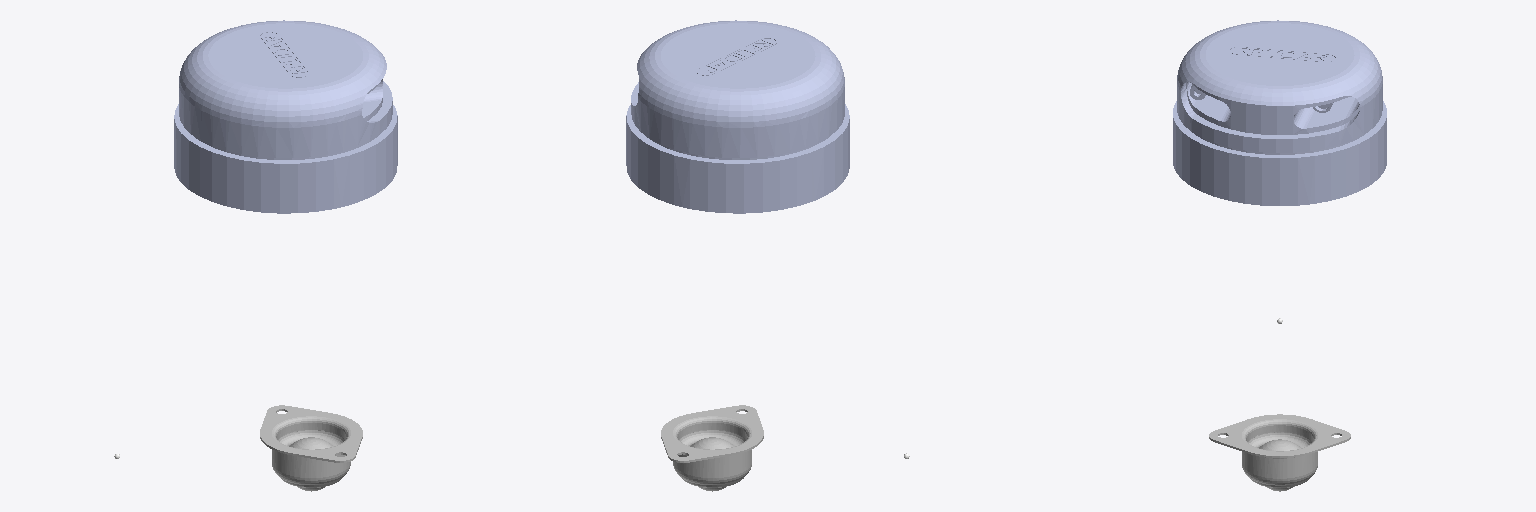
URDF robot description (robot_base):
<?xml version="1.0" encoding="utf-8"?>
<robot name="robot_base">
  <link name="dummy_link">
    <visual>
      <origin xyz="0 0 0" rpy="0 0 0" />
      <geometry>
        <sphere radius="0.001"/>
        <!-- Small dummy geometry -->
      </geometry>
      <material name="">
        <color rgba="1 1 1 0" />
        <!-- Transparent -->
      </material>
    </visual>
  </link>
  <!-- Connect dummy_link to base_link -->
  <joint name="base_to_dummy" type="fixed">
    <origin xyz="0 0 0" rpy="0 0 0" />
    <parent link="dummy_link" />
    <child link="base_link" />
  </joint>
  <link name="base_link">
    <inertial>
      <origin xyz="-0.0159332 0.00037847 0.0230631" rpy="0 0 0" />
      <mass value="0.292247405722798" />
      <inertia
        ixx="0.000429963078507304" ixy="4.62099453471662E-06"
        ixz="1.58774627973234E-12" iyy="0.00080367575600521"
        iyz="-3.33005853023011E-13" izz="0.00121846146781167" />
    </inertial>
    <visual>
      <origin xyz="0 0 0" rpy="0 0 0" />
      <geometry>
        <mesh filename="package://mobile_manipulator_body/meshes/base_link.STL" />
      </geometry>
      <material name="">
        <color rgba="1 1 1 1" />
      </material>
    </visual>
    <collision>
      <origin xyz="0 0 0" rpy="0 0 0" />
      <geometry>
        <mesh filename="package://mobile_manipulator_body/meshes/base_link.STL" />
      </geometry>
    </collision>
  </link>
  <link
    name="Wheel_Left">
    <inertial>
      <origin
        xyz="-4.9865970597196E-07 -5.89849896204253E-07 -0.00606538909070078"
        rpy="0 0 0" />
      <mass
        value="0.095010558221634" />
      <inertia
        ixx="5.98197604162753E-05"
        ixy="-2.19638833914417E-10"
        ixz="2.6590553874291E-12"
        iyy="5.98250644048601E-05"
        iyz="-6.89645347104026E-11"
        izz="0.000107921224901709" />
    </inertial>
    <visual>
      <origin
        xyz="0 0 0"
        rpy="0 0 0" />
      <geometry>
        <mesh
          filename="package://mobile_manipulator_body/meshes/Wheel_Left.STL" />
      </geometry>
      <material
        name="">
        <color
          rgba="0.792156862745098 0.819607843137255 0.933333333333333 1" />
      </material>
    </visual>
    <collision>
      <origin
        xyz="0 0 0"
        rpy="0 0 0" />
      <geometry>
        <mesh
          filename="package://mobile_manipulator_body/meshes/Wheel_Left.STL" />
      </geometry>
    </collision>
  </link>
  <joint name="Wheel_Left_joint" type="continuous">
    <origin xyz="-0.0691182674073111 0.0986067938627333 0.0147500406739957"
      rpy="-1.57079632679489 0 0" />
    <parent link="base_link" />
    <child link="Wheel_Left" />
    <axis xyz="-0.000221070416805364 0 0.999999975563903" />
  </joint>
  <link
    name="Wheel_Right">
    <inertial>
      <origin
        xyz="-7.5125333422188E-07 -1.43630067065553E-07 0.00606538909071514"
        rpy="0 0 0" />
      <mass
        value="0.0950105582252051" />
      <inertia
        ixx="5.98235592551786E-05"
        ixy="-2.40126304111027E-09"
        ixz="5.84800461053403E-11"
        iyy="5.98212655663013E-05"
        iyz="-3.66504977655556E-11"
        izz="0.000107921224902043" />
    </inertial>
    <visual>
      <origin
        xyz="0 0 0"
        rpy="0 0 0" />
      <geometry>
        <mesh
          filename="package://mobile_manipulator_body/meshes/Wheel_Right.STL" />
      </geometry>
      <material
        name="">
        <color
          rgba="0.792156862745098 0.819607843137255 0.933333333333333 1" />
      </material>
    </visual>
    <collision>
      <origin
        xyz="0 0 0" rpy="0 0 0" />
      <geometry>
        <mesh
          filename="package://mobile_manipulator_body/meshes/Wheel_Right.STL" />
      </geometry>
    </collision>
  </link>
  <joint
    name="Wheel_Right_joint"
    type="continuous">
    <origin
      xyz="-0.0690746739058167 -0.098585939150258 0.0147500004436891"
      rpy="-1.57079632679489 0 0" />
    <parent
      link="base_link" />
    <child
      link="Wheel_Right" />
    <axis
      xyz="-0.000221070416805647 0 0.999999975563903" />
  </joint>
  <link
    name="CASTER">
    <inertial>
      <origin
        xyz="1.88150478530602E-09 1.4854297777922E-08 0.010130285754726"
        rpy="0 0 0" />
      <mass
        value="0.0118320440750591" />
      <inertia
        ixx="7.75664356920457E-07"
        ixy="1.72527856620683E-12"
        ixz="-1.28248756008223E-13"
        iyy="7.25304291699545E-07"
        iyz="-6.26130230081244E-13"
        izz="9.21150248298891E-07" />
    </inertial>
    <visual>
      <origin
        xyz="0 0 0"
        rpy="0 0 0" />
      <geometry>
        <mesh
          filename="package://mobile_manipulator_body/meshes/CASTER.STL" />
      </geometry>
      <material
        name="">
        <color
          rgba="0.796078431372549 0.796078431372549 0.796078431372549 1" />
      </material>
    </visual>
    <collision>
      <origin
        xyz="0 0 0"
        rpy="0 0 0" />
      <geometry>
        <mesh
          filename="package://mobile_manipulator_body/meshes/CASTER.STL" />
      </geometry>
    </collision>
  </link>
  <joint
    name="CASTER_joint"
    type="fixed">
    <origin
      xyz="0.0759035293244633 1.04273562376855E-05 -0.0299999999999997"
      rpy="0 0 0" />
    <parent
      link="base_link" />
    <child
      link="CASTER" />
    <axis
      xyz="0 0 0" />
  </joint>
  <link
    name="Lidar">
    <inertial>
      <origin
        xyz="-0.000952743015547569 0.000174931117582391 -0.0222148342073064"
        rpy="0 0 0" />
      <mass
        value="0.163065240500782" />
      <inertia
        ixx="6.07653762014296E-05"
        ixy="-2.85075017809212E-08"
        ixz="-2.36607526592323E-07"
        iyy="6.03982532986614E-05"
        iyz="4.61829628674481E-08"
        izz="0.000107588752845482" />
    </inertial>
    <visual>
      <origin
        xyz="0 0 0"
        rpy="0 0 0" />
      <geometry>
        <mesh
          filename="package://mobile_manipulator_body/meshes/Lidar.STL" />
      </geometry>
      <material
        name="">
        <color
          rgba="0.792156862745098 0.819607843137255 0.933333333333333 1" />
      </material>
    </visual>
    <collision>
      <origin
        xyz="0 0 0"
        rpy="0 0 0" />
      <geometry>
        <mesh
          filename="package://mobile_manipulator_body/meshes/Lidar.STL" />
      </geometry>
    </collision>
  </link>
  <joint
    name="Lidar_joint"
    type="fixed">
    <origin
      xyz="0.0659038792794608 1.07773112351106E-05 0.134299800000001"
      rpy="0 0 0" />
    <parent
      link="base_link" />
    <child
      link="Lidar" />
    <axis
      xyz="0 0 0" />
  </joint>
  <gazebo>
    <plugin name="gazebo_ros_control" filename="libgazebo_ros_control.so">
      <robotNamespace>/</robotNamespace>
      <controlPeriod>0.001</controlPeriod>
      <legacyModeNS>false</legacyModeNS>
    </plugin>
  </gazebo>
  <gazebo>
    <plugin name="diff_drive_controller" filename="libgazebo_ros_diff_drive.so">
      <robotNamespace>/</robotNamespace>
      <legacyMode>false</legacyMode>
      <alwaysOn>true</alwaysOn>
      <commandTopic>cmd_vel</commandTopic>
      <odometryTopic>odom</odometryTopic>
      <odometryFrame>map</odometryFrame>
      <robotBaseFrame>base_link</robotBaseFrame>
      <wheelSeparation>0.2</wheelSeparation>
      <!-- Khoảng cách giữa hai bánh xe trái và phải -->
      <wheelDiameter>0.15</wheelDiameter>
      <!-- Đường kính bánh xe -->
      <updateRate>100.0</updateRate>
      <leftJoint>Wheel_Left_joint</leftJoint>
      <rightJoint>Wheel_Right_joint</rightJoint>
      <wheelTorque>10</wheelTorque>
      <publishTf>1</publishTf>
      <wheelAcceleration>2.8</wheelAcceleration>
      <publishWheelJointState>true</publishWheelJointState>
      <publishWheelTF>false</publishWheelTF>
      <odometrySource>world</odometrySource>
      <rosDebugLevel>Debug</rosDebugLevel>
      <torque>5.0</torque>
    </plugin>
  </gazebo>
  <!-- Thêm các thuộc tính ma sát và trọng lực cho các bánh xe -->
  <gazebo reference="Wheel_Left">
    <mu1 value="0.9"/>
    <mu2 value="0.9"/>
    <kp value="100000.0" />
    <kd value="1.0" />
    <fdir1 value="1 0 0"/>
  </gazebo>
  <gazebo reference="Wheel_Right">
    <mu1 value="0.9"/>
    <mu2 value="0.9"/>
    <kp value="100000.0" />
    <kd value="1.0" />
    <fdir1 value="1 0 0"/>
  </gazebo>
  <transmission name="front_right_wheel_trans" type="SimpleTransmission">
    <type>transmission_interface/SimpleTransmission</type>
    <actuator name="front_right_wheel_motor">
      <hardwareInterface>hardware_interface/VelocityJointInterface</hardwareInterface>
      <mechanicalReduction>1</mechanicalReduction>
    </actuator>
    <joint name="Wheel_Right_joint">
      <hardwareInterface>hardware_interface/VelocityJointInterface</hardwareInterface>
    </joint>
  </transmission>
  <transmission name="rear_left_wheel_trans" type="SimpleTransmission">
    <type>transmission_interface/SimpleTransmission</type>
    <actuator name="rear_left_wheel_motor">
      <hardwareInterface>hardware_interface/VelocityJointInterface</hardwareInterface>
      <mechanicalReduction>1</mechanicalReduction>
    </actuator>
    <joint name="Wheel_Left_joint">
      <hardwareInterface>hardware_interface/VelocityJointInterface</hardwareInterface>
    </joint>
  </transmission>
</robot>

--- Facts derived from the render (not from the file) ---
3 views of the same robot in one strip: view 1: azimuth 30°, elevation 25°; view 2: azimuth 150°, elevation 25°; view 3: azimuth 270°, elevation 25° (orthographic).
Model robot_base with 6 links and 5 joints (2 continuous, 3 fixed), rooted at dummy_link, posed every joint at zero.
Links seen in each view (by area): view 1: Lidar, CASTER; view 2: Lidar, CASTER; view 3: Lidar, CASTER.
Boxes of the visible links, x1=… form: Lidar: x1=174, y1=20, x2=397, y2=213; CASTER: x1=260, y1=405, x2=362, y2=491; Lidar: x1=626, y1=20, x2=849, y2=213; CASTER: x1=661, y1=405, x2=763, y2=491; Lidar: x1=1173, y1=20, x2=1386, y2=205; CASTER: x1=1209, y1=414, x2=1350, y2=491.
Bounding box of the posed robot: 0.1048 × 0.0757 × 0.1643 m (x, y, z).
Meshes: 5 distinct files referenced, 2 mesh visuals loaded (2 binary STL); not drawn: 3 (reference not matched to a file when rendering).
